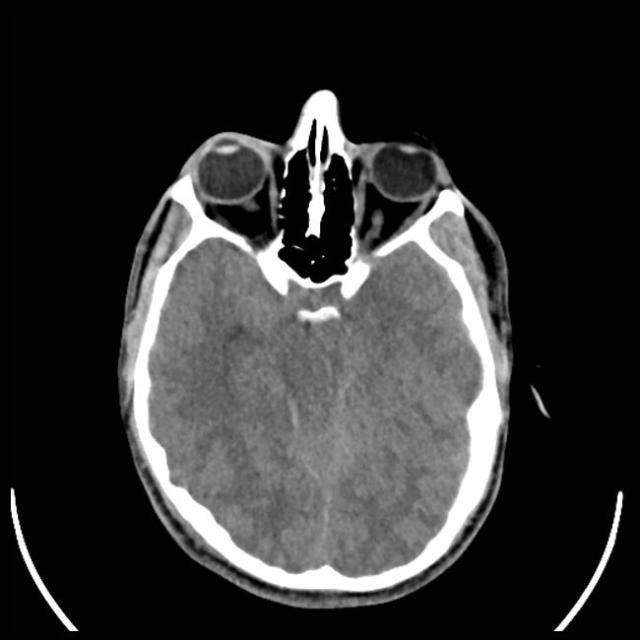lesion: (113, 87, 519, 606)
